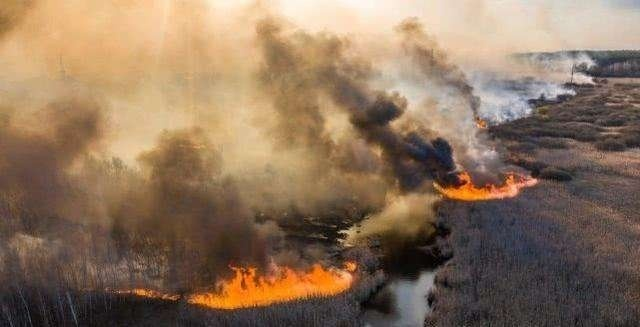fire: (182, 260, 358, 304), (432, 164, 540, 199), (472, 112, 488, 129)
